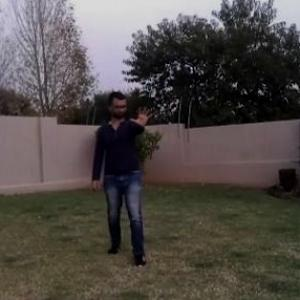follow_hand: (131, 103, 154, 130)
